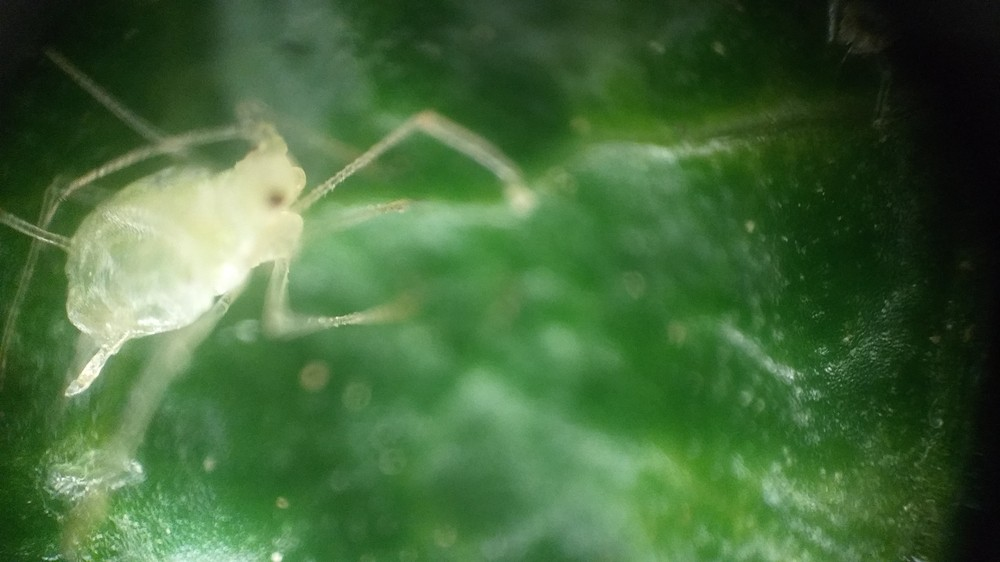Pulgon: (18, 47, 543, 423)
